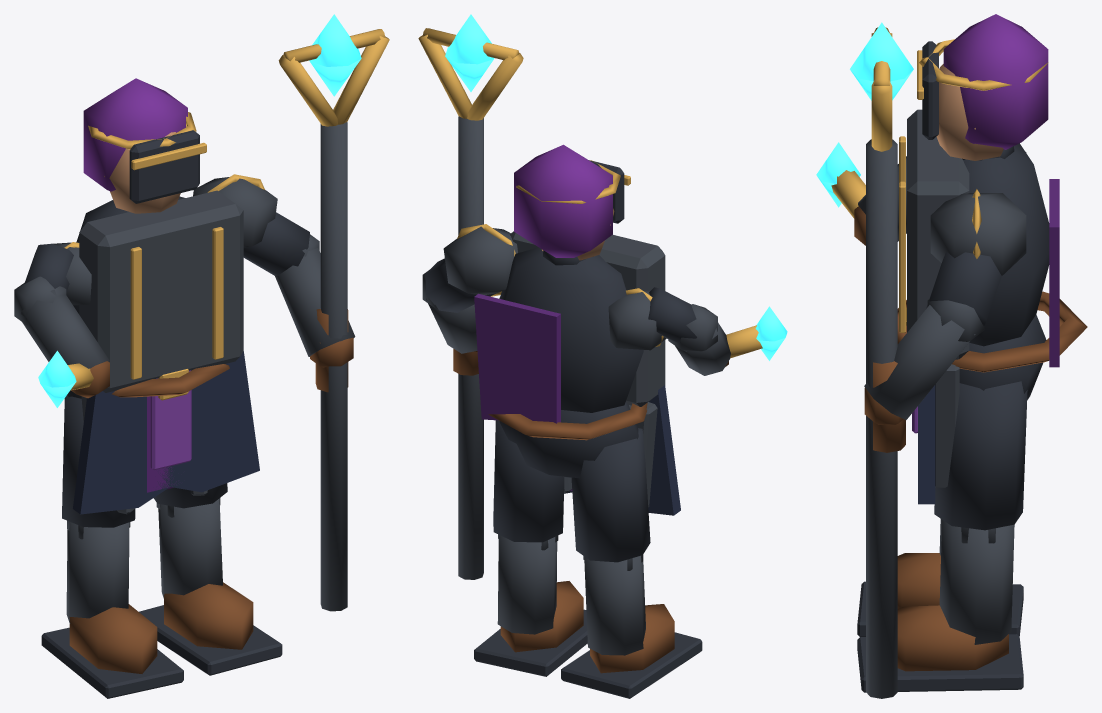
3 renders of one model, left to right at view 1: azimuth 30°, elevation 25°; view 2: azimuth 150°, elevation 25°; view 3: azimuth 270°, elevation 25°, orthographic. The views are drawn at different scales.
Parts seen in each view (by area): view 1: WK_Hegemony_RiftBattlemage_LOD2_Compact_Static; view 2: WK_Hegemony_RiftBattlemage_LOD2_Compact_Static; view 3: WK_Hegemony_RiftBattlemage_LOD2_Compact_Static.
Boxes of the visible parts, left/top/right/bottom form: WK_Hegemony_RiftBattlemage_LOD2_Compact_Static: left=14, top=14, right=389, bottom=698; WK_Hegemony_RiftBattlemage_LOD2_Compact_Static: left=418, top=14, right=787, bottom=698; WK_Hegemony_RiftBattlemage_LOD2_Compact_Static: left=816, top=14, right=1087, bottom=698.
Size of the model in its own units: 1.39 by 2.25 by 0.7861.
